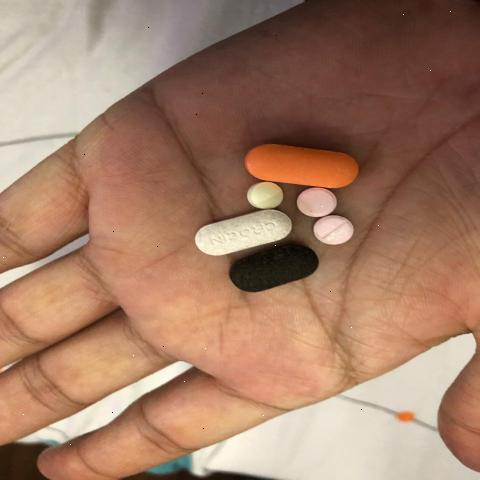Pill: (185, 210, 288, 254), (286, 186, 339, 215), (311, 218, 358, 247), (240, 183, 288, 211), (312, 217, 352, 244)
